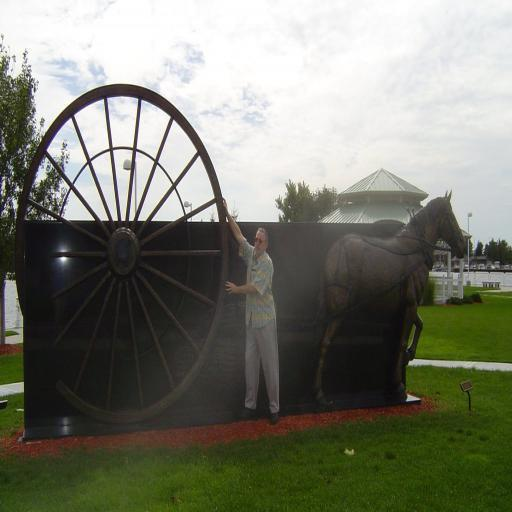horse: (310, 190, 468, 410)
